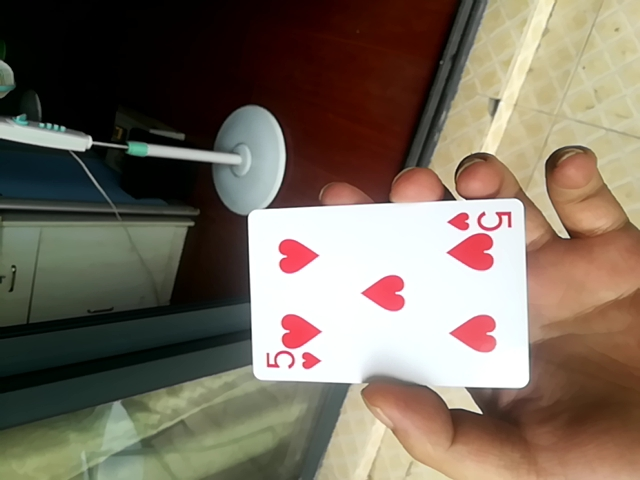hx 5: (242, 192, 526, 393)
